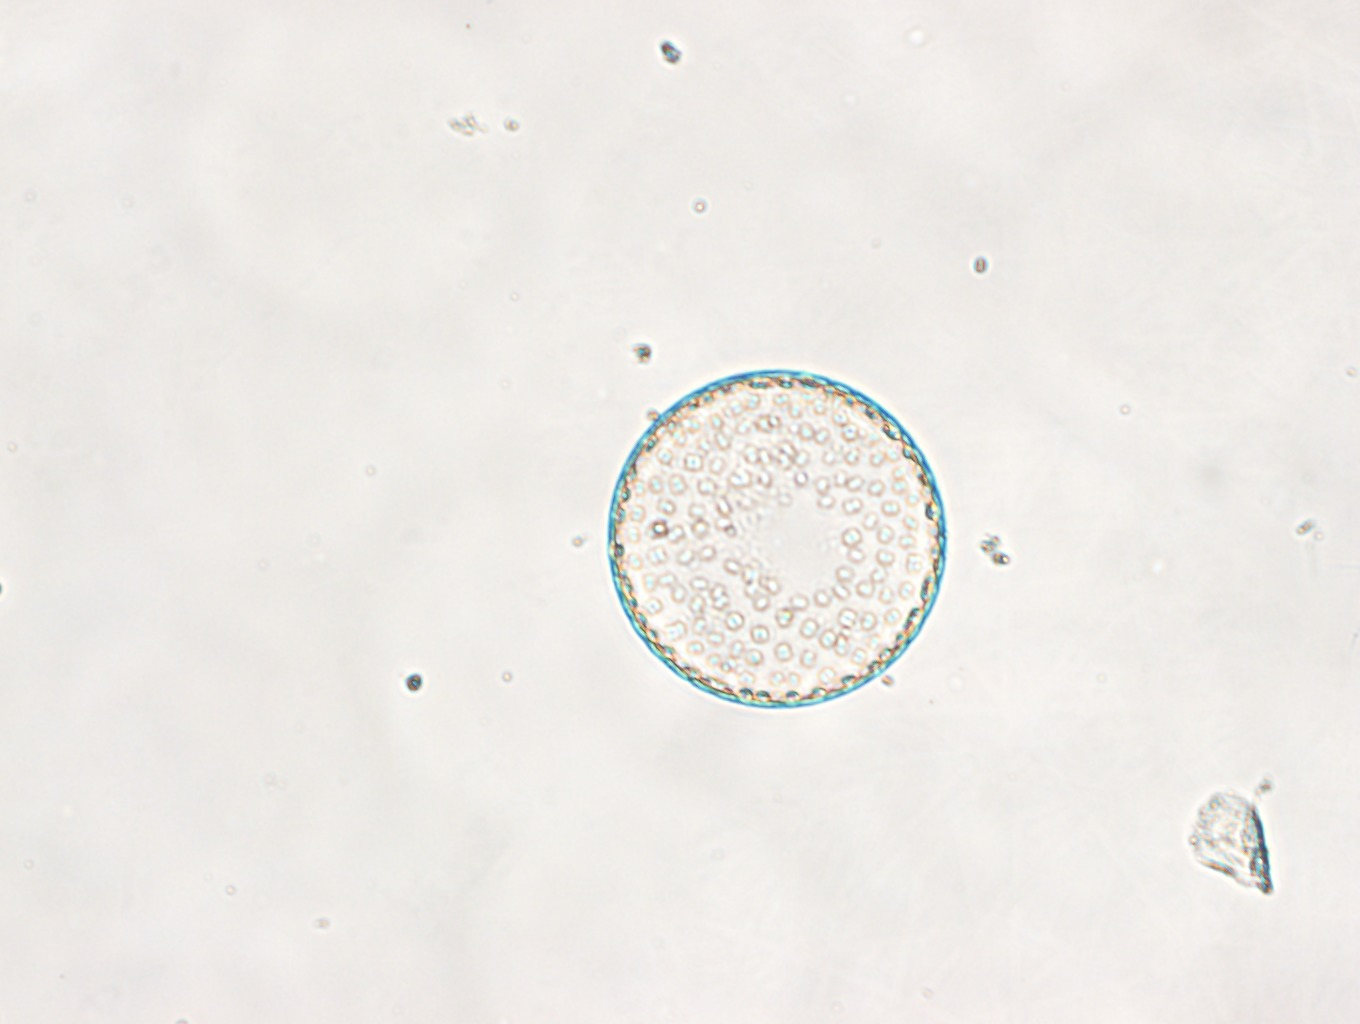coscinodiscus: (605, 367, 946, 708)
